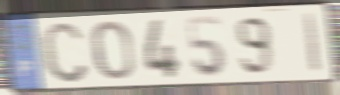4: (142, 16, 183, 81)
5: (184, 13, 229, 81)
9: (235, 15, 276, 76)
C: (39, 19, 91, 86)
I: (301, 11, 325, 76)
O: (90, 18, 136, 82)
